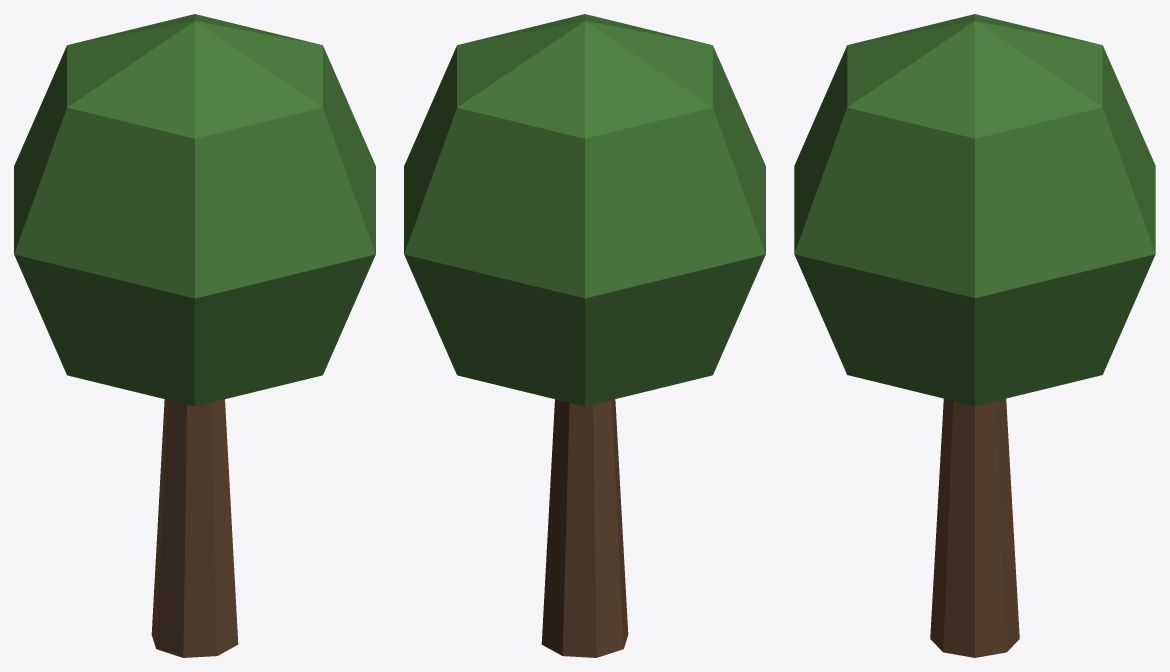
File: willow-tree-low.obj
3 renders of one model, left to right at view 1: azimuth 30°, elevation 25°; view 2: azimuth 150°, elevation 25°; view 3: azimuth 270°, elevation 25°, orthographic.
Visible parts, largest first — view 1: willow-tree-low; view 2: willow-tree-low; view 3: willow-tree-low.
Boxes of the visible parts, x1,y1,x2,y2 form: willow-tree-low: [14, 14, 375, 657]; willow-tree-low: [404, 14, 765, 657]; willow-tree-low: [794, 14, 1155, 657].
Size of the model in its own units: 4.1 by 6.7 by 3.55.
